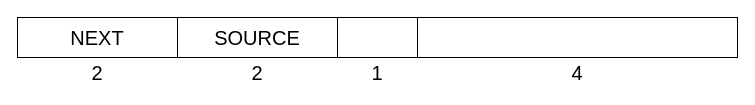
Image size: 755x105. Some labels were removed from this diagram. Here are the shapes that lost their labels. From the top down, the centre of each, then its label:
At pixel 377 37: "ID".
At pixel 577 37: "MSGID".
